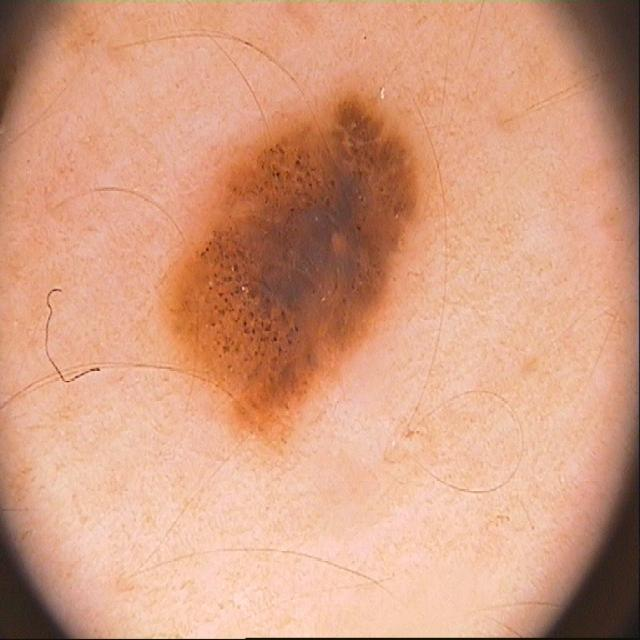Skin-Cancer Nevus: (106, 0, 447, 512)
